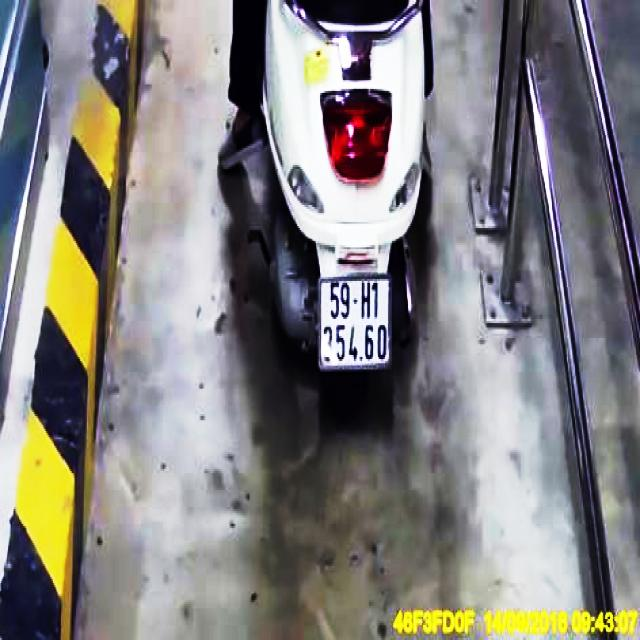license_plate: (322, 276, 391, 368)
